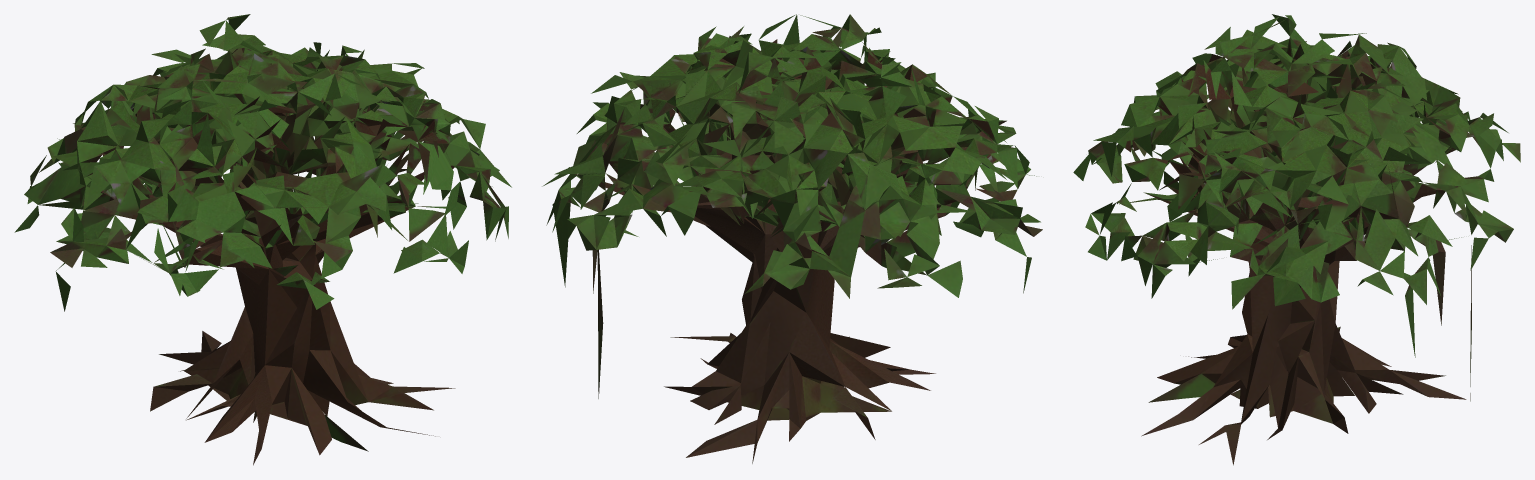
The model's file is mangrove.glb.
3 renders of one model, left to right at view 1: azimuth 30°, elevation 25°; view 2: azimuth 150°, elevation 25°; view 3: azimuth 270°, elevation 25°, orthographic. The views are drawn at different scales.
Size of the model in its own units: 1.77 by 1.4 by 1.61.
Materials: 1 (1 with a texture image).
